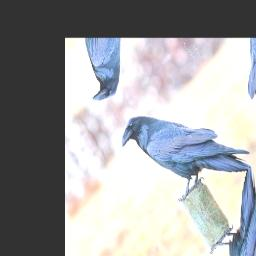Crow: (113, 53, 255, 242)
